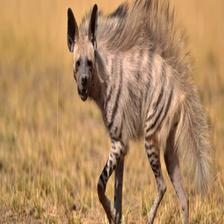hyena: (62, 0, 224, 224)
